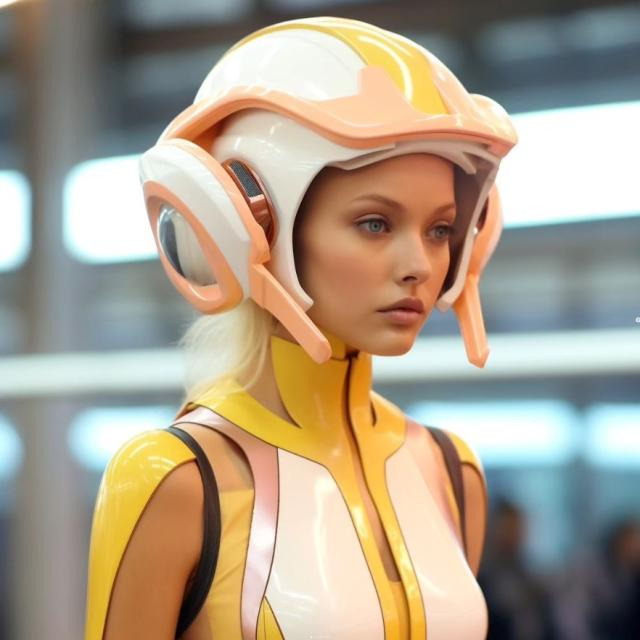illegal_helmet: (134, 9, 524, 380)
